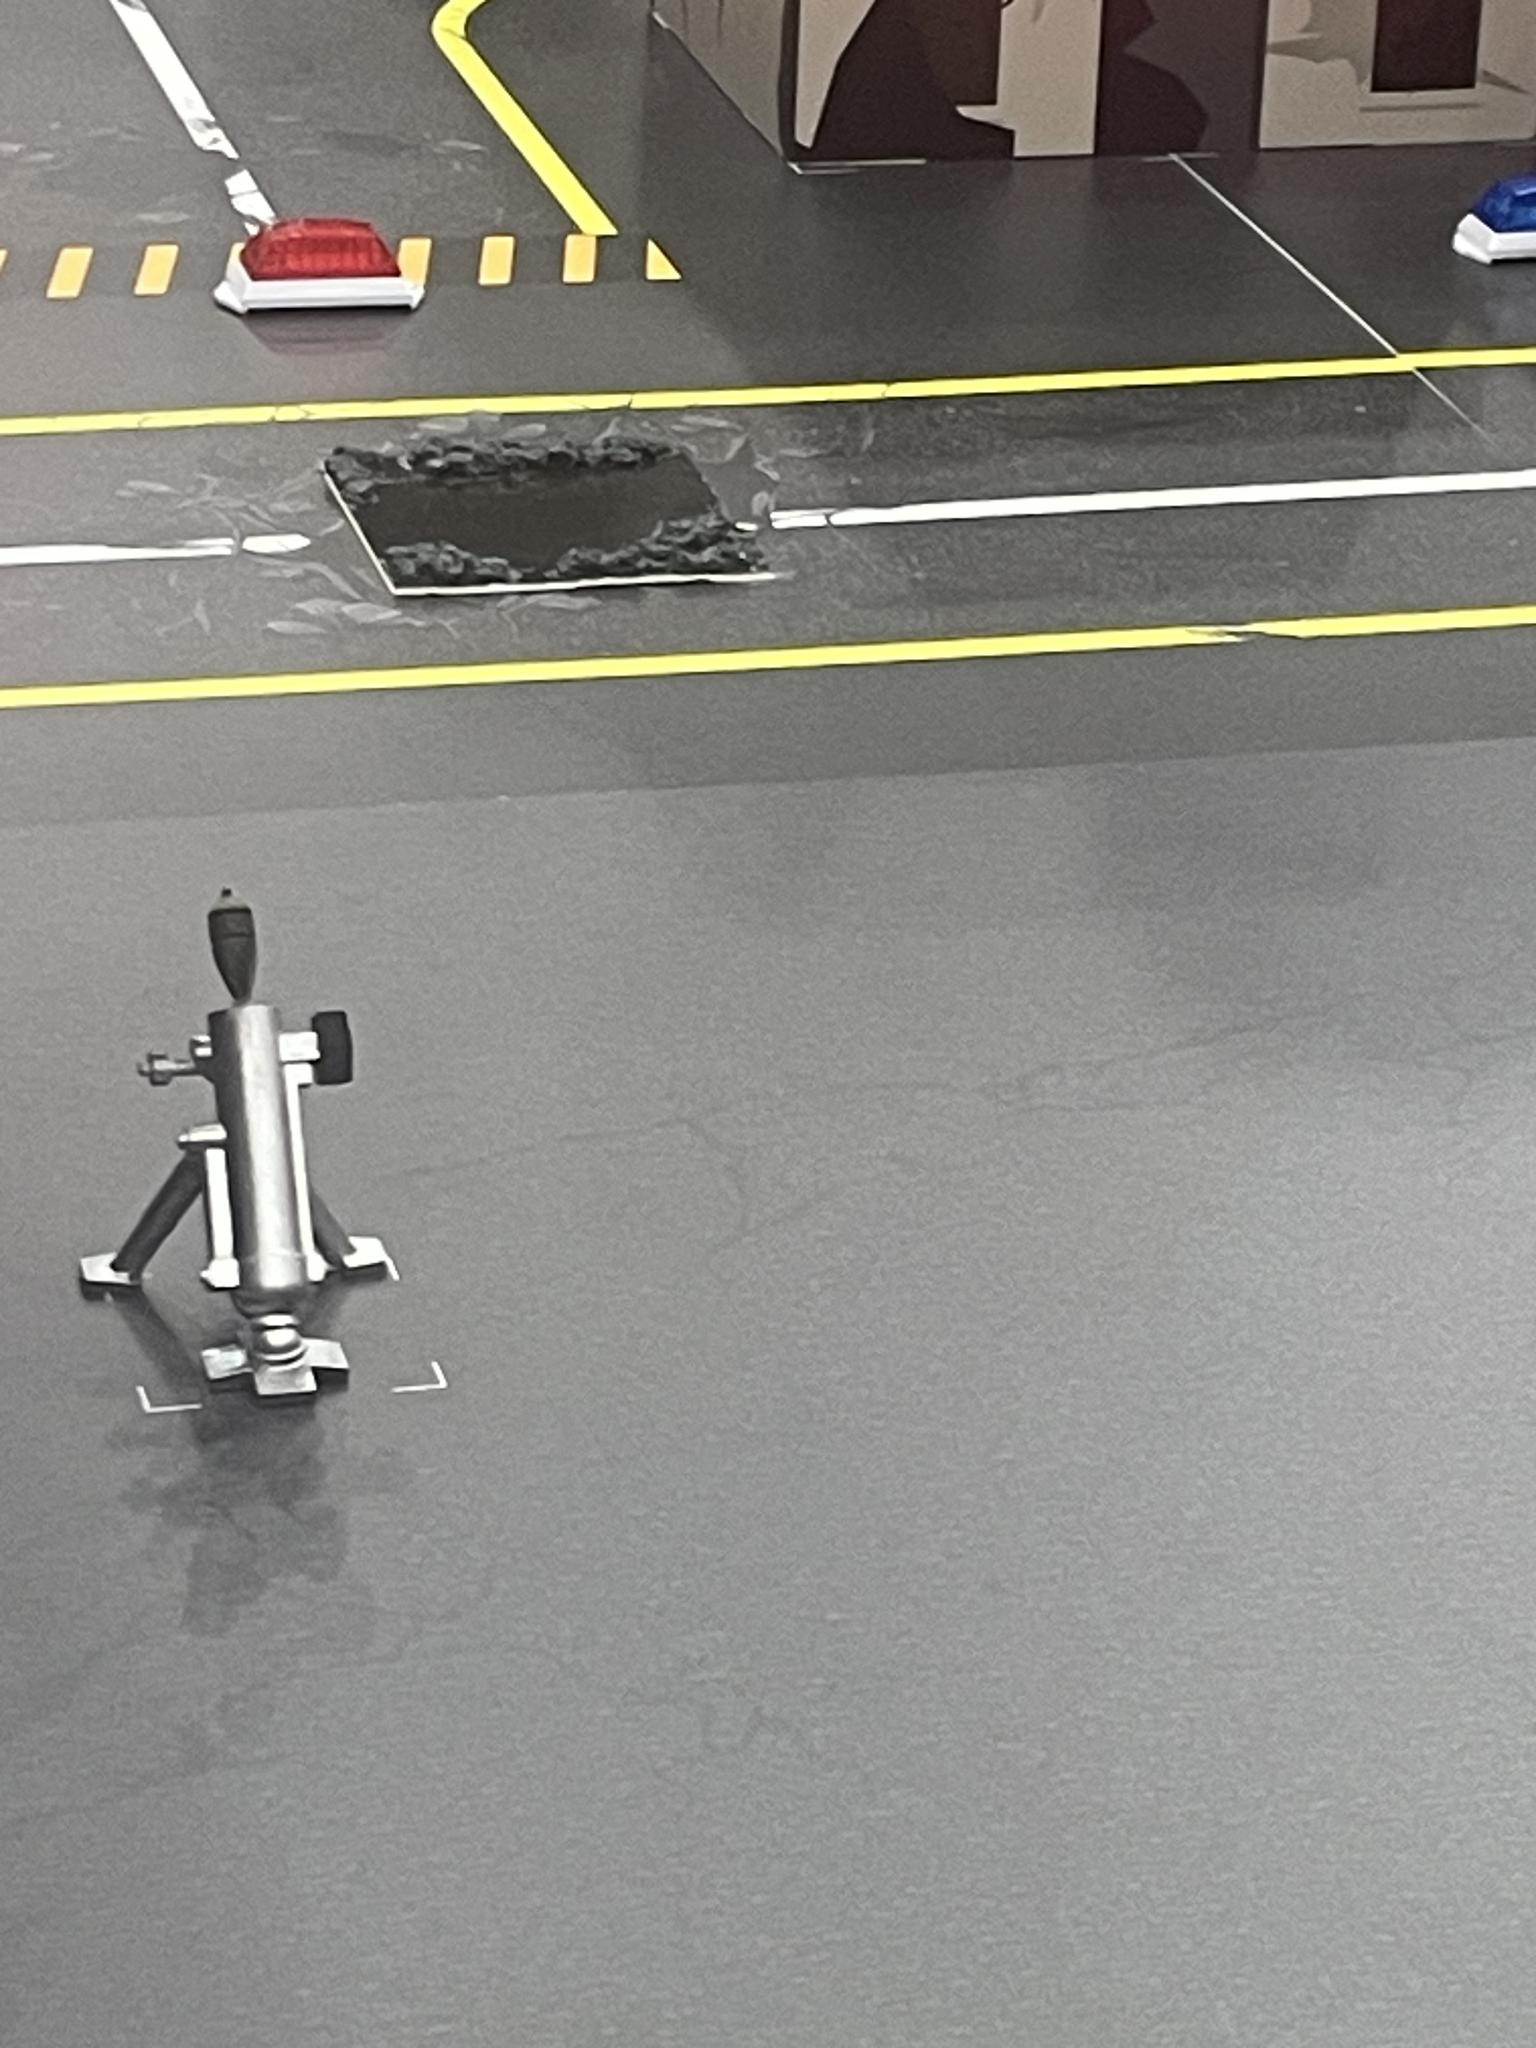Mortar: (71, 889, 402, 1414)
